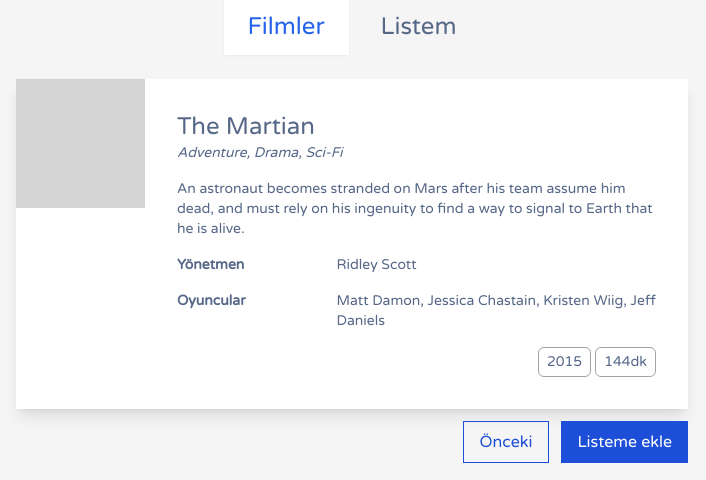
it: Listeme ekle eklenen filmi filmlerim listesinden kaldırıyor
Step 1. Click the button "Listeme ekle" → (625,442), box left=561, top=421, right=688, bottom=463
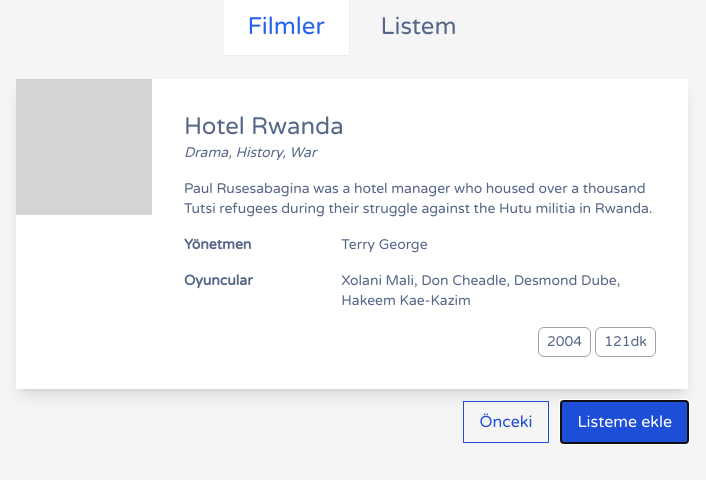
Expected: the heading "Hotel Rwanda" is shown, left=184, top=112, right=344, bottom=141
